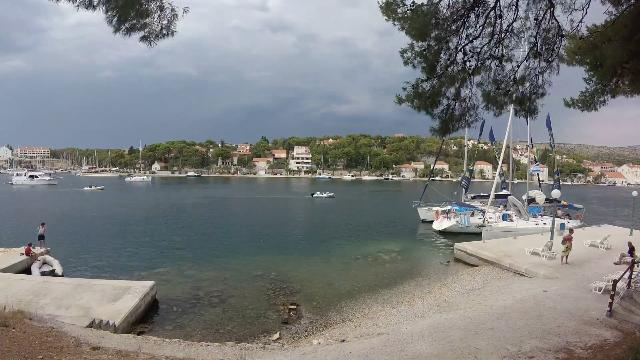Sailboat: (122, 170, 156, 184)
ferry: (8, 168, 66, 190)
speedboat: (306, 186, 338, 200), (82, 182, 108, 192)
